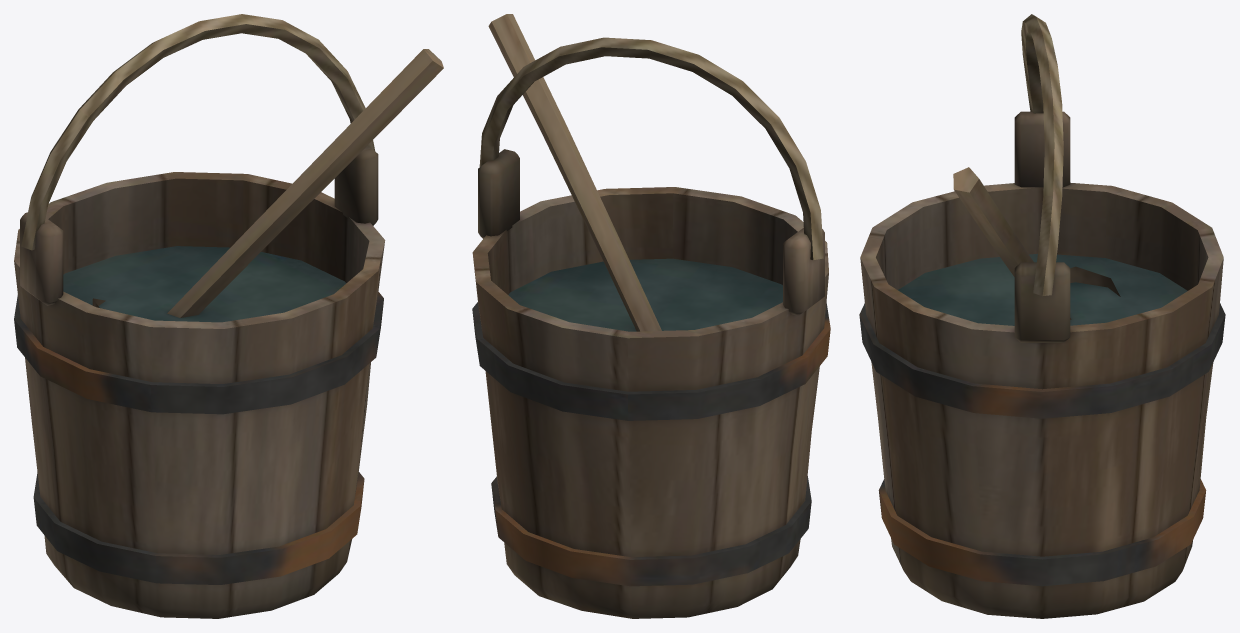
File: fm_bucket_ladle.glb
3 views of the same model, side by side, from view 1: azimuth 30°, elevation 25°; view 2: azimuth 150°, elevation 25°; view 3: azimuth 270°, elevation 25° (orthographic). The views are drawn at different scales.
Visible parts, largest first — view 1: fm_bucket_ladle; view 2: fm_bucket_ladle; view 3: fm_bucket_ladle.
Boxes of the visible parts, x1,y1,x2,y2 form: fm_bucket_ladle: (14,14,443,618); fm_bucket_ladle: (472,14,830,618); fm_bucket_ladle: (859,14,1225,618).
Bounding box in the file's own units: 0.392 × 0.524 × 0.3306.
3 materials, 3 textured.
